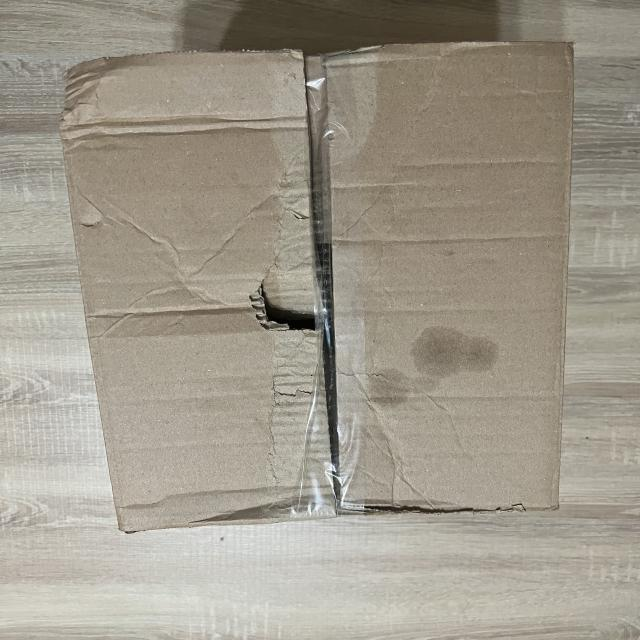damaged: (57, 36, 583, 535), (244, 256, 328, 350), (226, 494, 515, 520), (40, 52, 118, 114)
